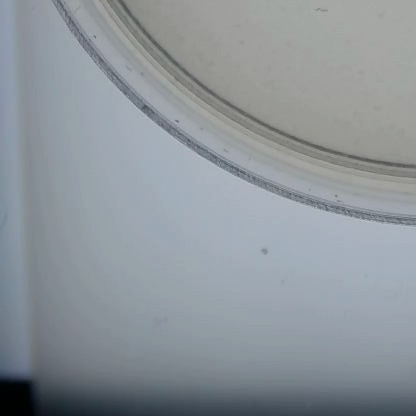worm: (310, 0, 330, 16)
